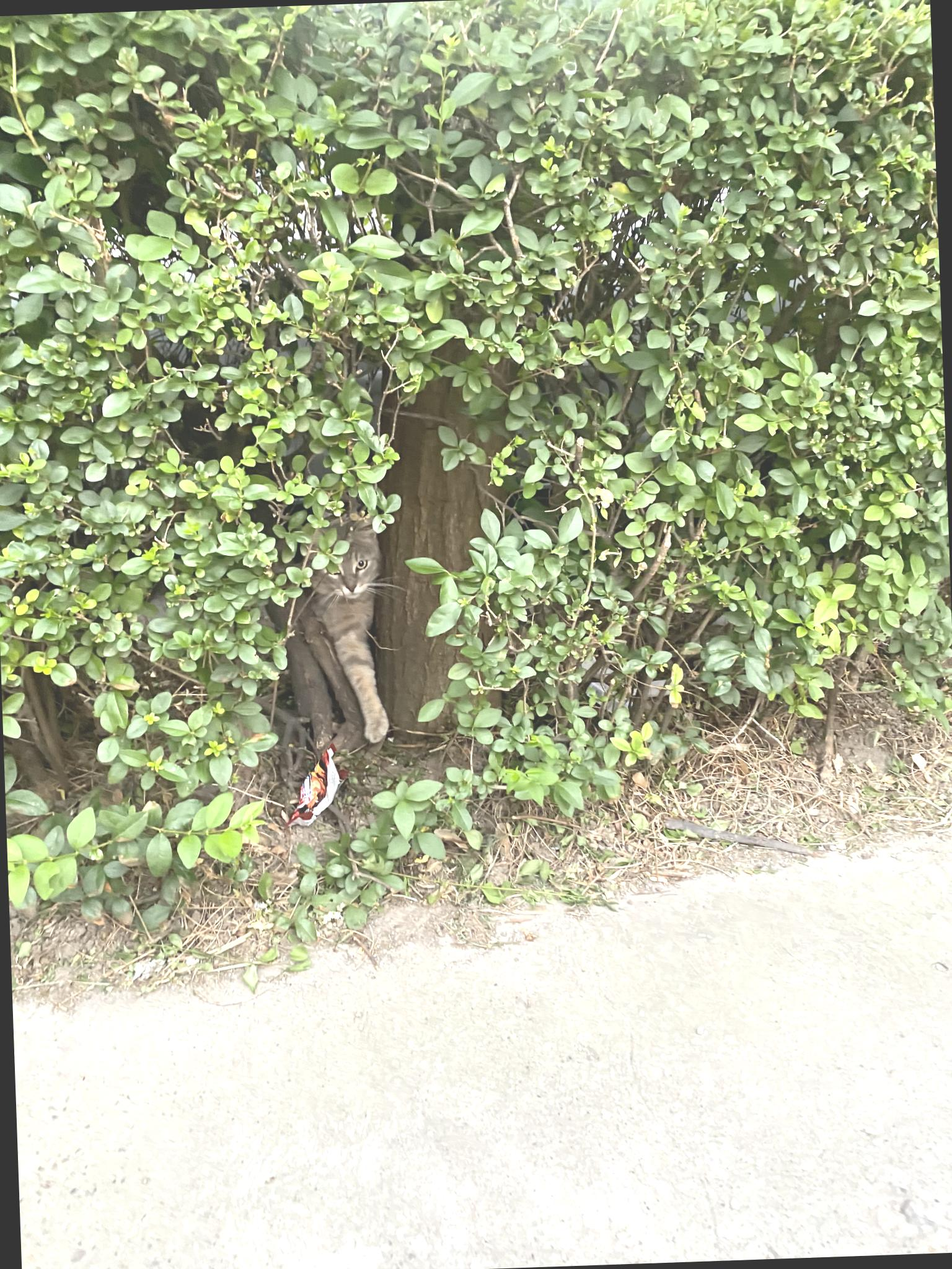macka: (308, 517, 391, 747)
